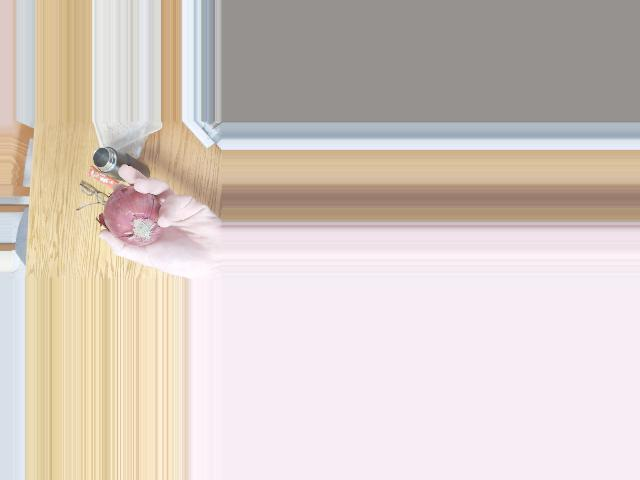onion: (105, 194, 169, 249)
